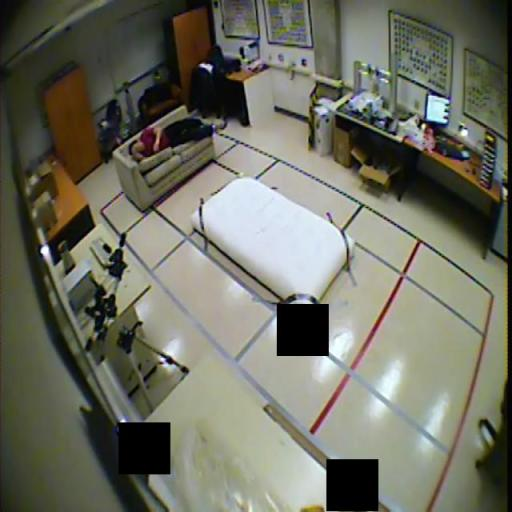Fall: (128, 115, 226, 162)
